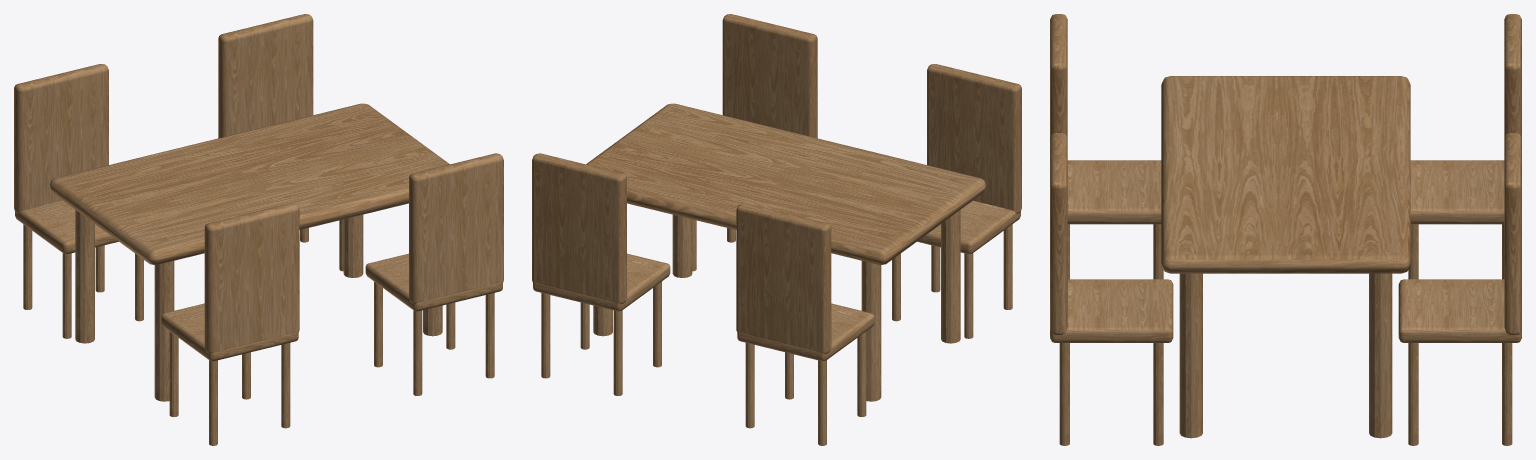
The model's file is dining_set_4_light_oak.glb.
3 renders of one model, left to right at view 1: azimuth 30°, elevation 25°; view 2: azimuth 150°, elevation 25°; view 3: azimuth 270°, elevation 25°, orthographic. The views are drawn at different scales.
Parts seen in each view (by area): view 1: dining top, chair back, chair back.001, chair back.002, chair back.003, table leg.001, chair seat.002, table leg, chair seat, chair seat.001, table leg.003, chair leg.008 (+9 smaller); view 2: dining top, chair back.002, chair back.003, chair back, chair back.001, table leg, chair seat, table leg.001, chair seat.002, chair seat.003, table leg.002, chair leg.001 (+9 smaller); view 3: dining top, chair seat.001, chair seat.003, chair seat, chair seat.002, table leg.002, table leg.003, chair back.001, chair back.003, chair back, chair back.002, chair leg.006 (+5 smaller).
Boxes of the visible parts, x1=… form: dining top: x1=50, y1=103, x2=449, y2=264; chair back: x1=204, y1=203, x2=299, y2=354; chair back.001: x1=409, y1=153, x2=503, y2=304; chair back.002: x1=14, y1=64, x2=108, y2=213; chair back.003: x1=218, y1=14, x2=313, y2=138; table leg.001: x1=75, y1=210, x2=94, y2=343; chair seat.002: x1=15, y1=200, x2=118, y2=254; table leg: x1=154, y1=261, x2=174, y2=401; chair seat: x1=161, y1=303, x2=298, y2=361; chair seat.001: x1=365, y1=253, x2=502, y2=311; table leg.003: x1=343, y1=214, x2=363, y2=277; chair leg.008: x1=62, y1=253, x2=71, y2=338; dining top: x1=586, y1=103, x2=985, y2=264; chair back.002: x1=736, y1=203, x2=831, y2=354; chair back.003: x1=532, y1=153, x2=626, y2=304; chair back: x1=927, y1=64, x2=1021, y2=213; chair back.001: x1=722, y1=14, x2=817, y2=138; table leg: x1=941, y1=210, x2=960, y2=343; chair seat: x1=917, y1=200, x2=1020, y2=254; table leg.001: x1=861, y1=261, x2=881, y2=401; chair seat.002: x1=737, y1=303, x2=874, y2=361; chair seat.003: x1=533, y1=253, x2=670, y2=311; table leg.002: x1=672, y1=214, x2=692, y2=277; chair leg.001: x1=964, y1=253, x2=973, y2=338; dining top: x1=1161, y1=76, x2=1410, y2=273; chair seat.001: x1=1050, y1=279, x2=1173, y2=342; chair seat.003: x1=1398, y1=279, x2=1521, y2=342; chair seat: x1=1067, y1=160, x2=1161, y2=224; chair seat.002: x1=1410, y1=160, x2=1504, y2=224; table leg.002: x1=1179, y1=273, x2=1202, y2=438; table leg.003: x1=1369, y1=273, x2=1392, y2=438; chair back.001: x1=1050, y1=133, x2=1067, y2=334; chair back.003: x1=1504, y1=133, x2=1521, y2=334; chair back: x1=1050, y1=14, x2=1067, y2=137; chair back.002: x1=1504, y1=14, x2=1521, y2=137; chair leg.006: x1=1059, y1=343, x2=1069, y2=445.
Bounding box in the file's own units: 1.5 × 1 × 1.61.
1 material, 1 textured.
